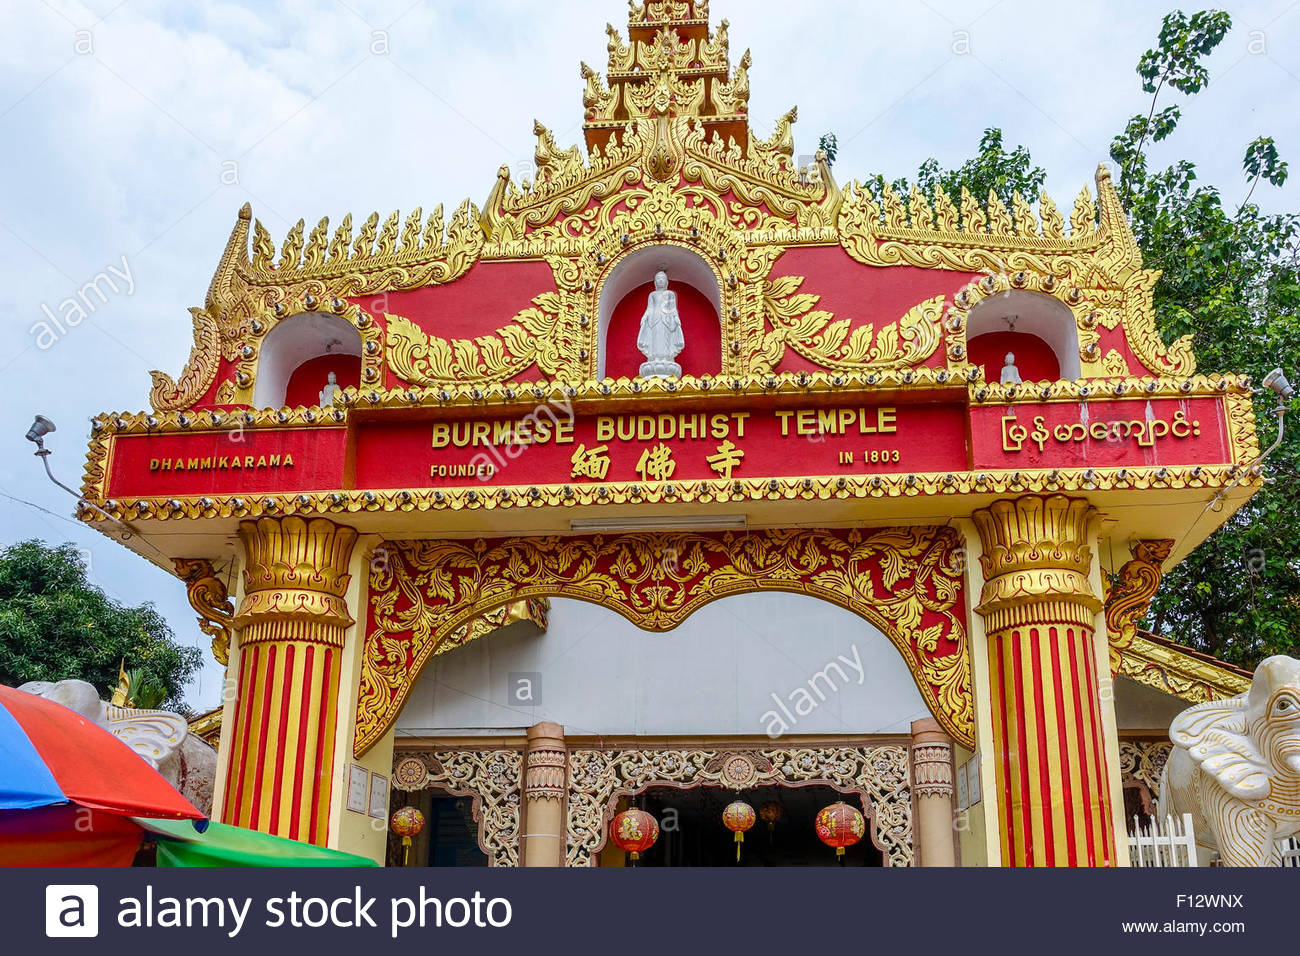Buddhist Temple: (153, 5, 1245, 848)
